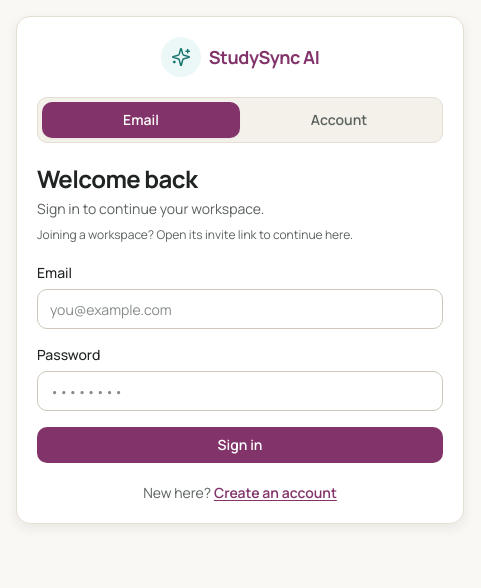
Test: AuthPage › TC-AUTH-01: validates login fields before submission
Click the button "Sign in". click: coordinates (240, 445)
box: [37,427,443,463]
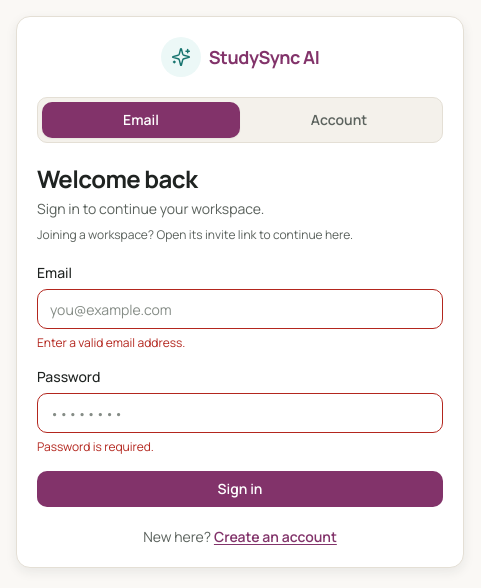
Result: the text "Enter a valid email address." is shown at [37,334,185,351]
Result: the text "Password is required." is shown at [37,438,154,455]
